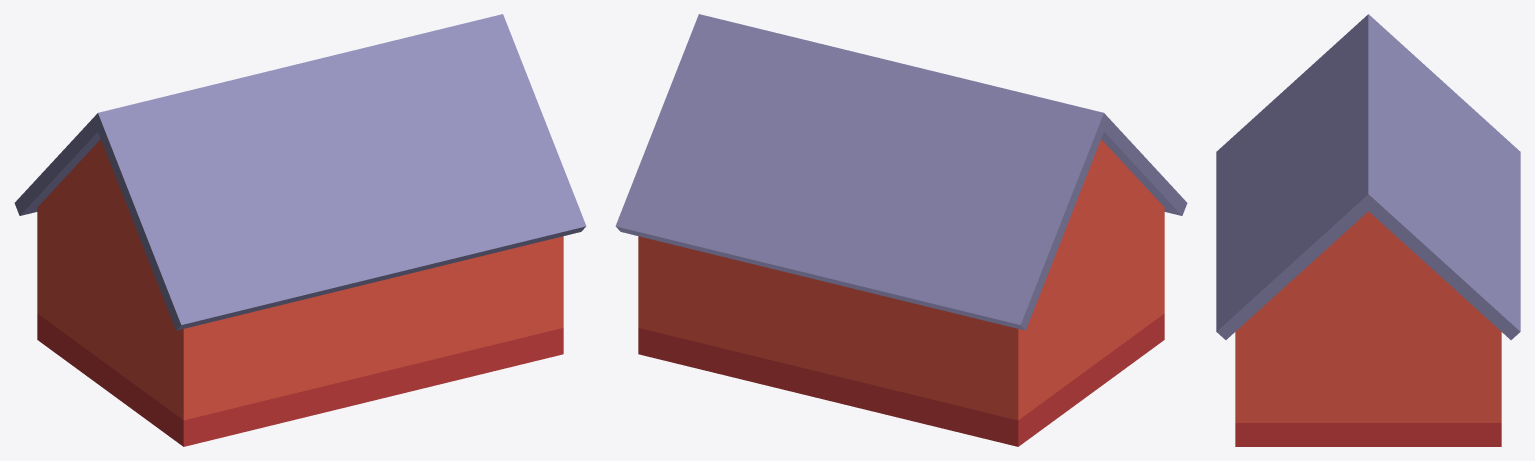
The model's file is HouseTest.fbx.
3 views of the same model, side by side, from view 1: azimuth 30°, elevation 25°; view 2: azimuth 150°, elevation 25°; view 3: azimuth 270°, elevation 25° (orthographic). The views are drawn at different scales.
Parts seen in each view (by area): view 1: mergedBlocks; view 2: mergedBlocks; view 3: mergedBlocks.
Boxes of the visible parts, x1,y1,x2,y2 form: mergedBlocks: (14,14,586,446); mergedBlocks: (615,14,1187,446); mergedBlocks: (1216,14,1520,446).
Bounding box in the file's own units: 32 × 21.41 × 22.83.
